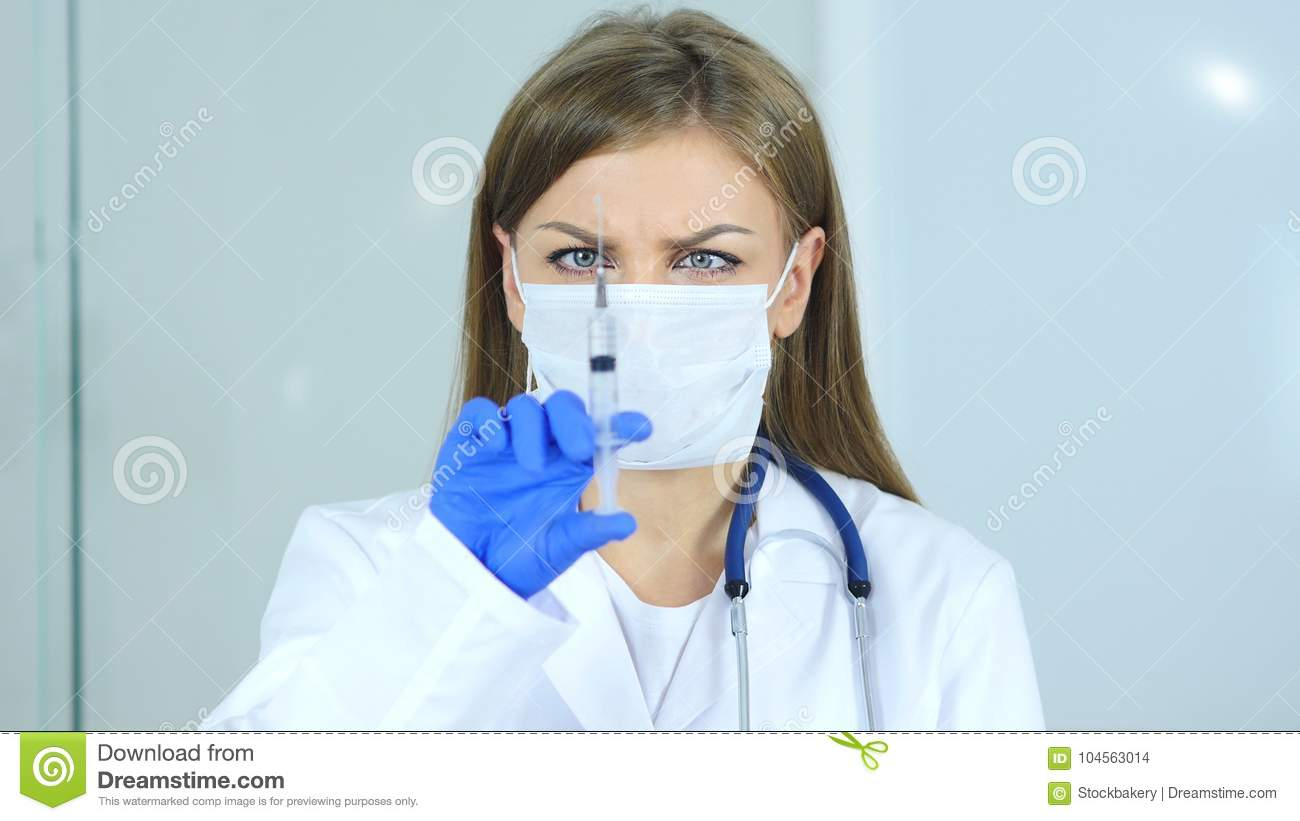mask: (510, 274, 791, 483)
